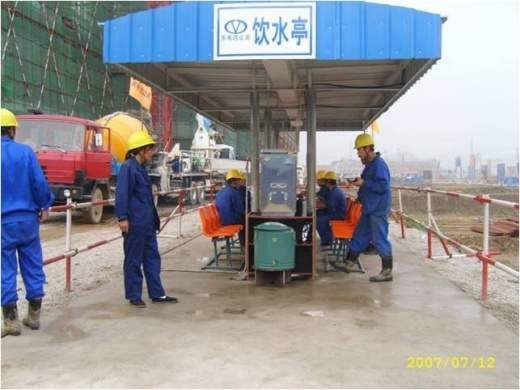yellow: (125, 128, 156, 163), (1, 107, 19, 142), (354, 134, 374, 162), (222, 167, 240, 188), (324, 171, 336, 188), (314, 170, 324, 187)
